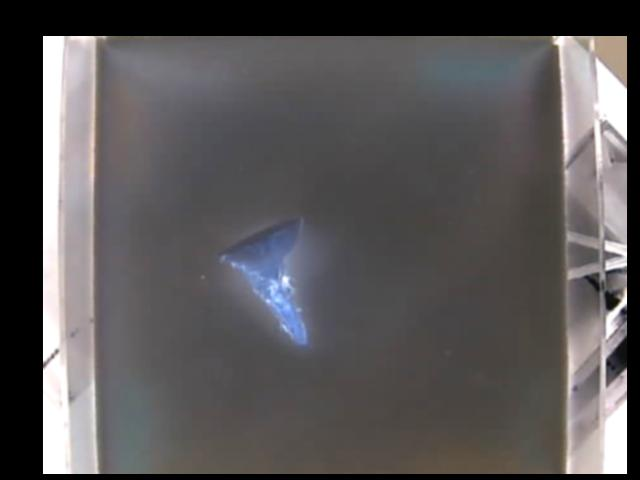Mooli: (219, 213, 307, 345)
